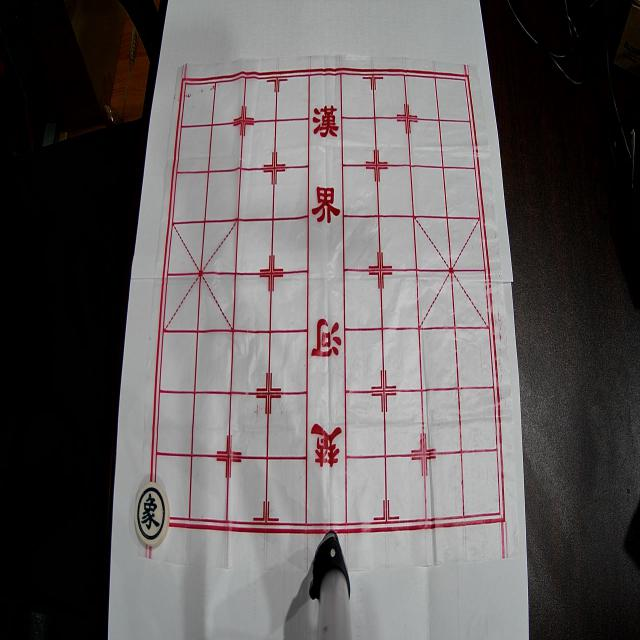black-elephant: (135, 482, 169, 547)
